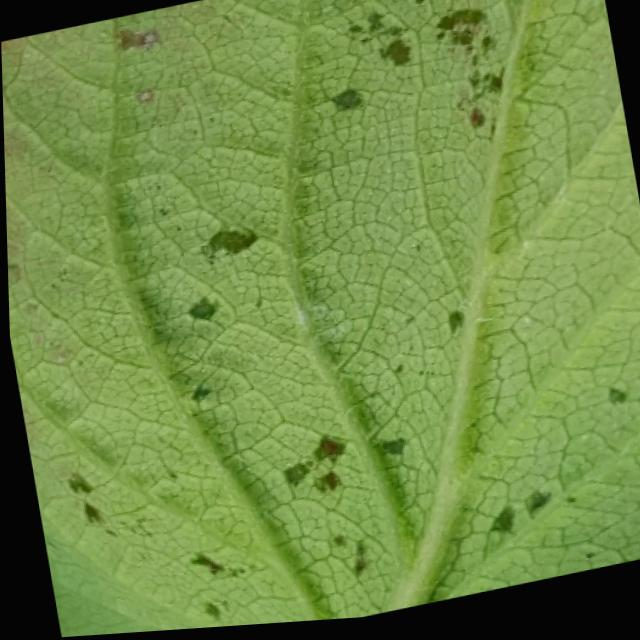Angular Leafspot: (1, 0, 640, 632)
